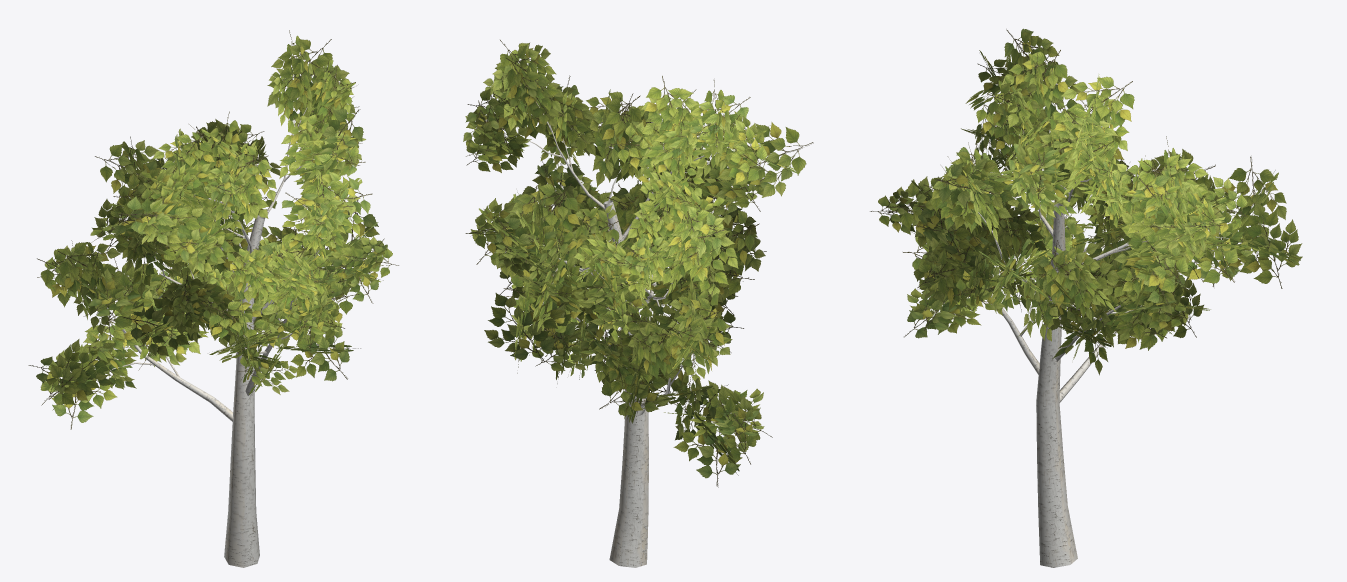
The model's file is nature-white-silver-birch.glb.
3 views of the same model, side by side, from view 1: azimuth 30°, elevation 25°; view 2: azimuth 150°, elevation 25°; view 3: azimuth 270°, elevation 25° (orthographic). The views are drawn at different scales.
Parts seen in each view (by area): view 1: nature-white-silver-birch; view 2: nature-white-silver-birch; view 3: nature-white-silver-birch.
Boxes of the visible parts, x1,y1,x2,y2 form: nature-white-silver-birch: (28, 30, 398, 567); nature-white-silver-birch: (463, 40, 813, 567); nature-white-silver-birch: (870, 28, 1302, 567).
Size of the model in its own units: 5.68 by 8.3 by 6.58.
Materials: 2 (2 with a texture image).
